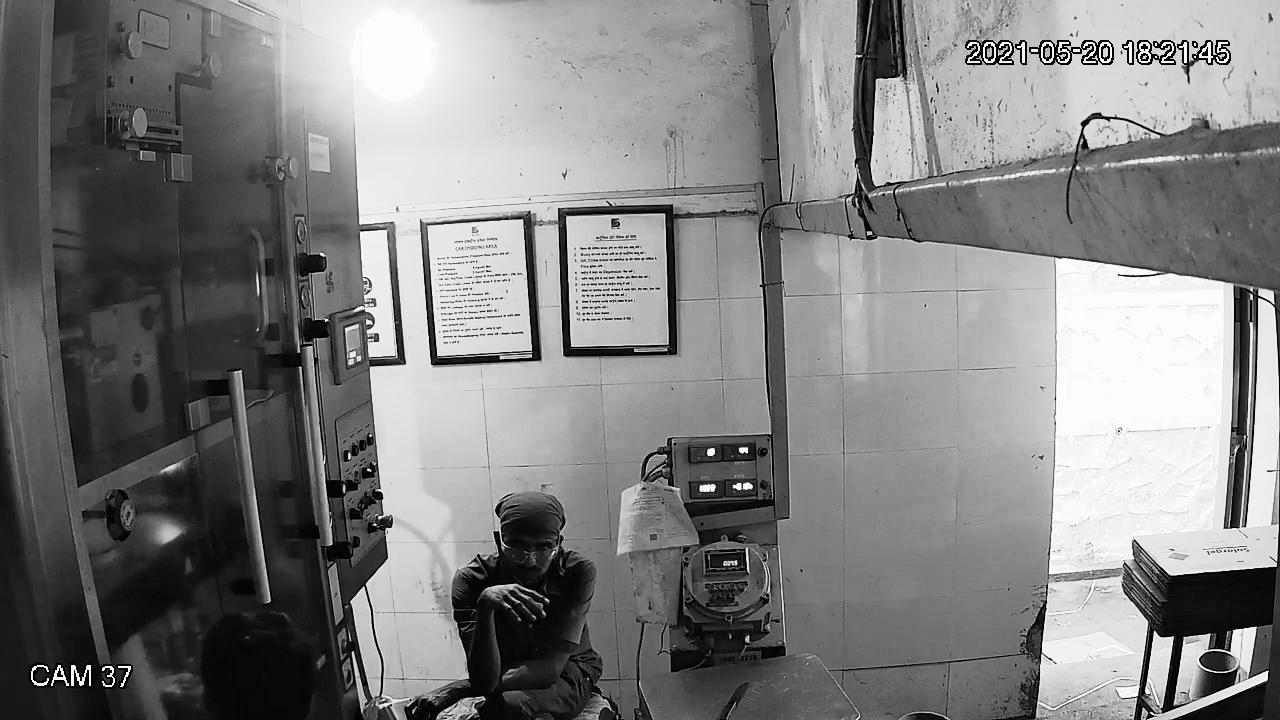Person: (452, 491, 606, 719)
